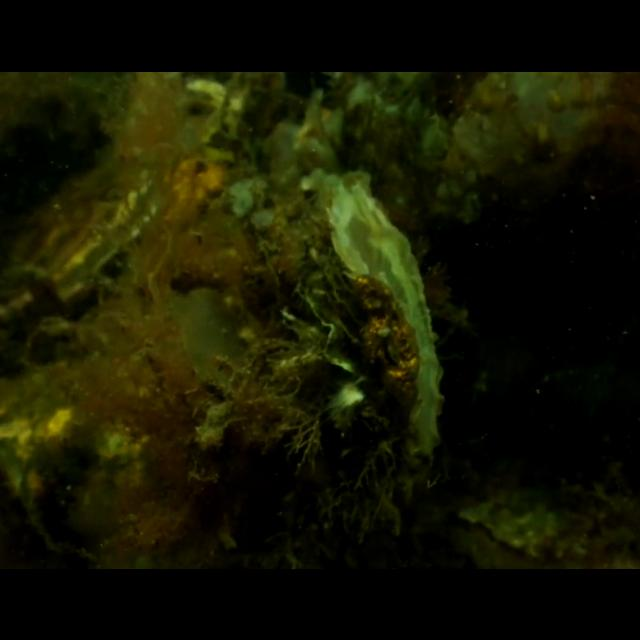Oyster-Open: (0, 164, 448, 568), (0, 152, 164, 336)
